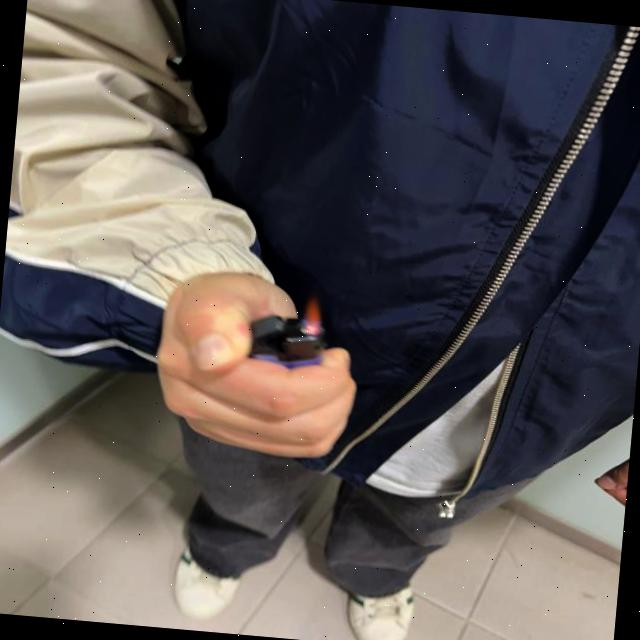fire: (300, 294, 324, 336)
